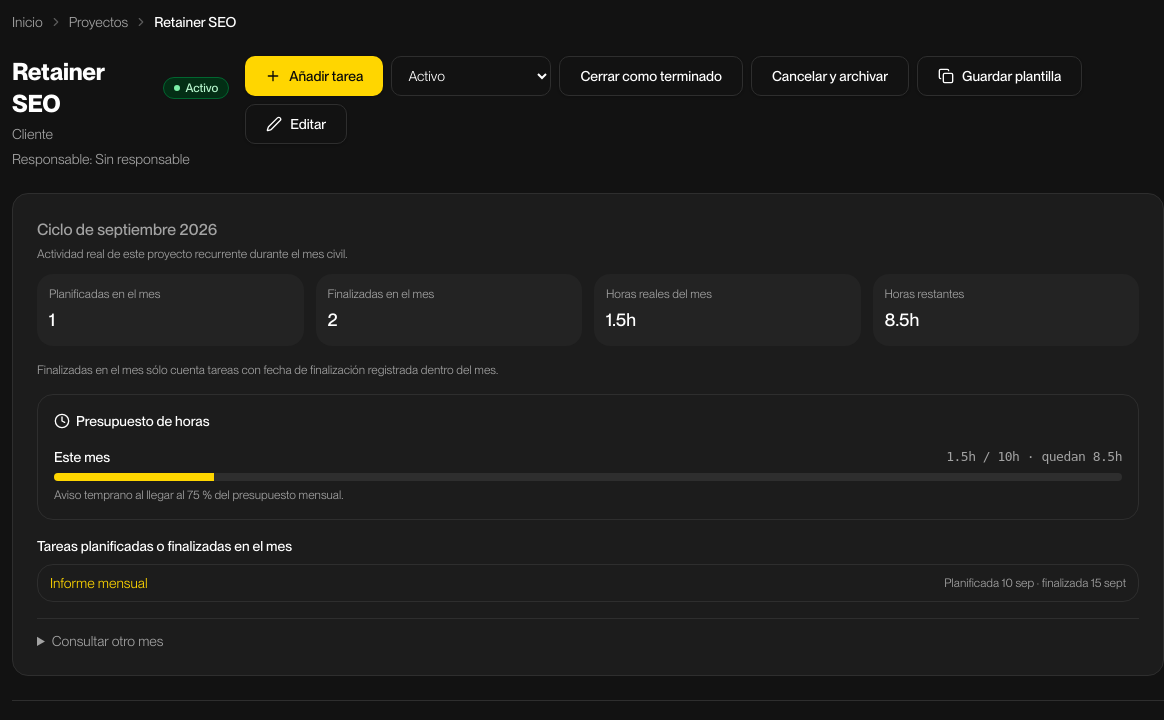
Test: recurring project monthly cycle › shows the current civil month and keeps history secondary
Expected: the heading "Ciclo de septiembre 2026" is shown, [37,220,217,239]
Expected: the text "1" is shown, [49,309,55,330]
Click the heading "Consultar otro mes".
click(108, 641)  # box [52,633,163,649]
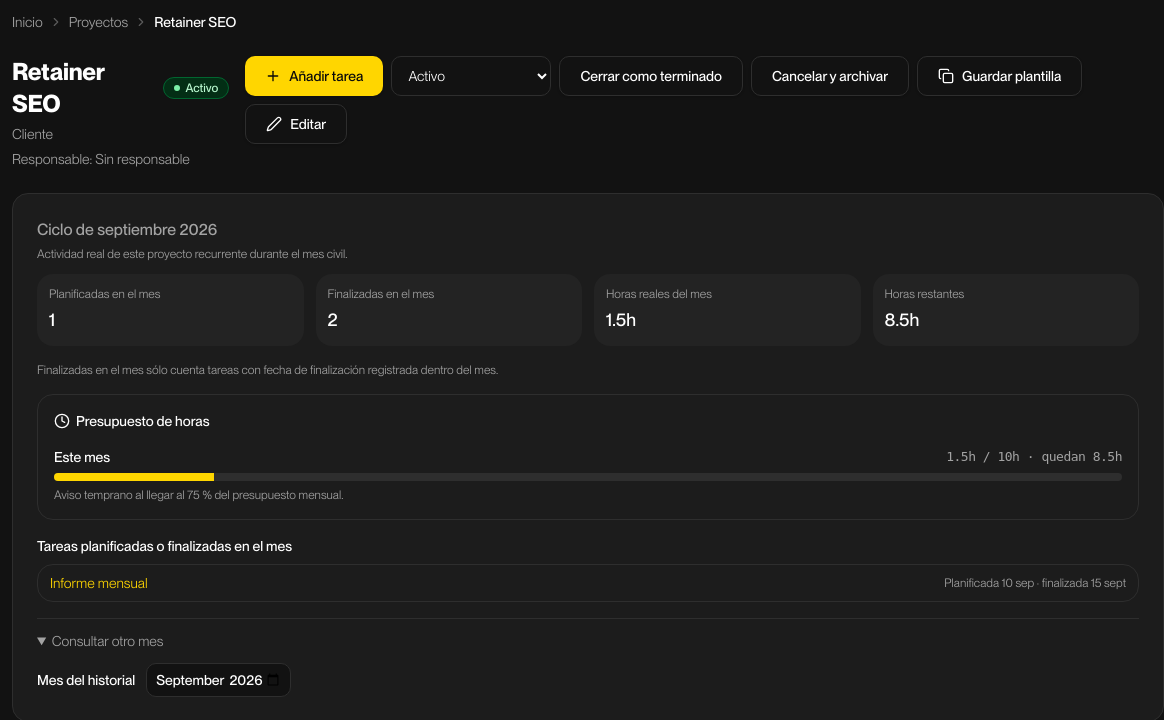
Replace the text in the field named "Mes del ciclo" with "2026-08" at (219, 680), box [146,663,291,697]
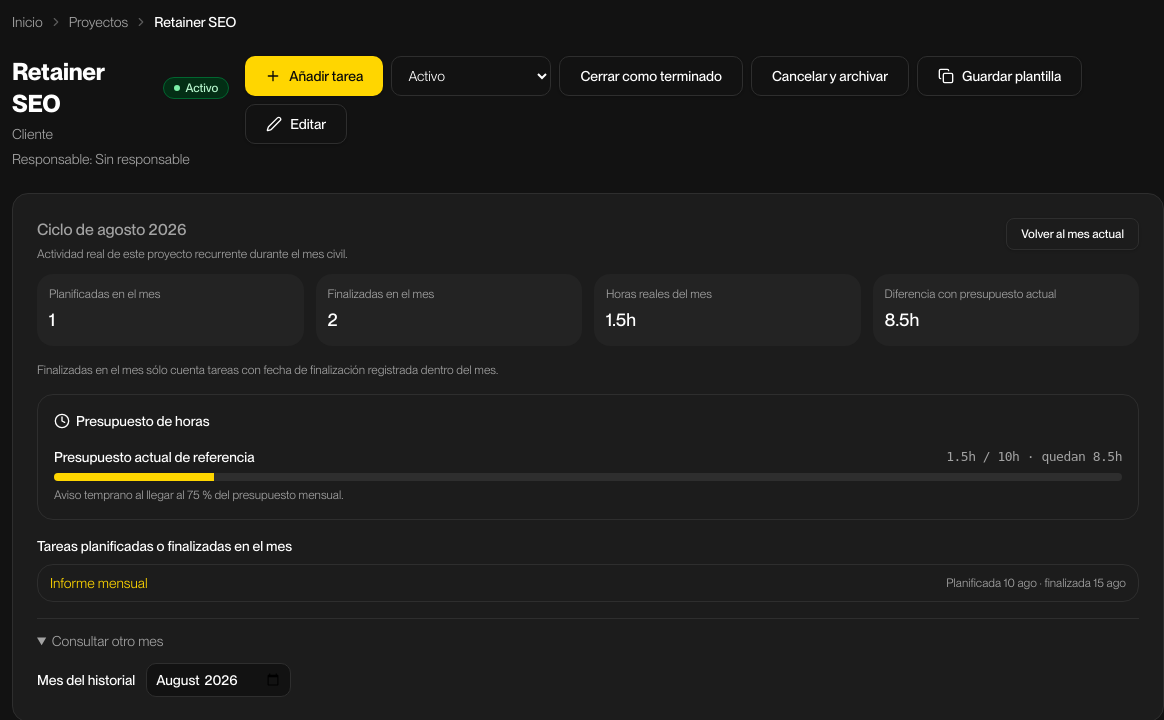
Now the text "Diferencia con presupuesto actual" is shown, box [884,287,1056,301]
Now the text "Presupuesto actual de referencia" is shown, box [54,447,255,467]
